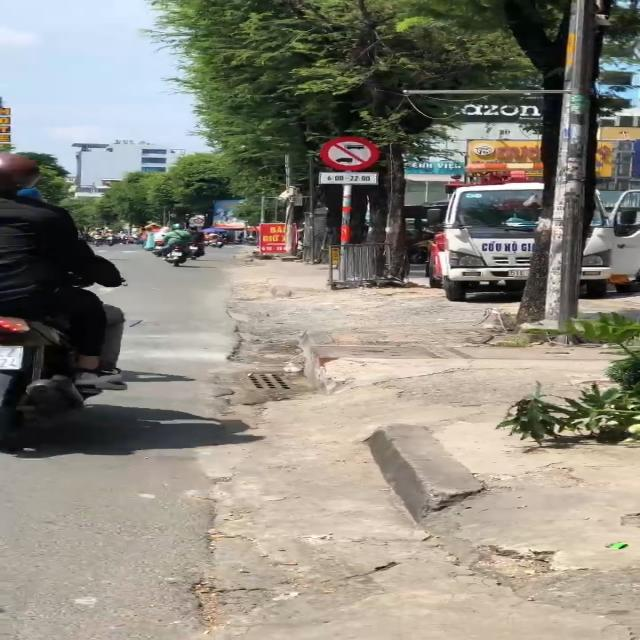Bien bao cam xe oto khach va xe oto tai: (312, 134, 389, 171)
